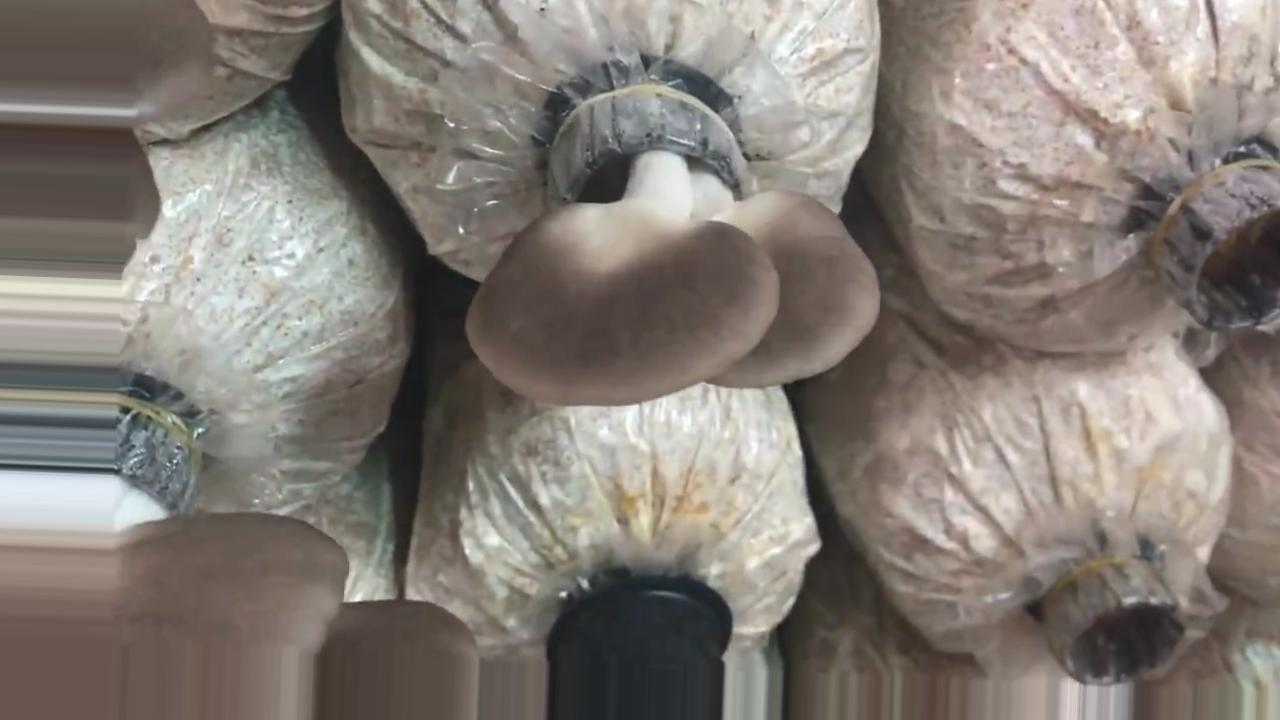nam: (1, 368, 484, 720), (467, 70, 881, 409)
